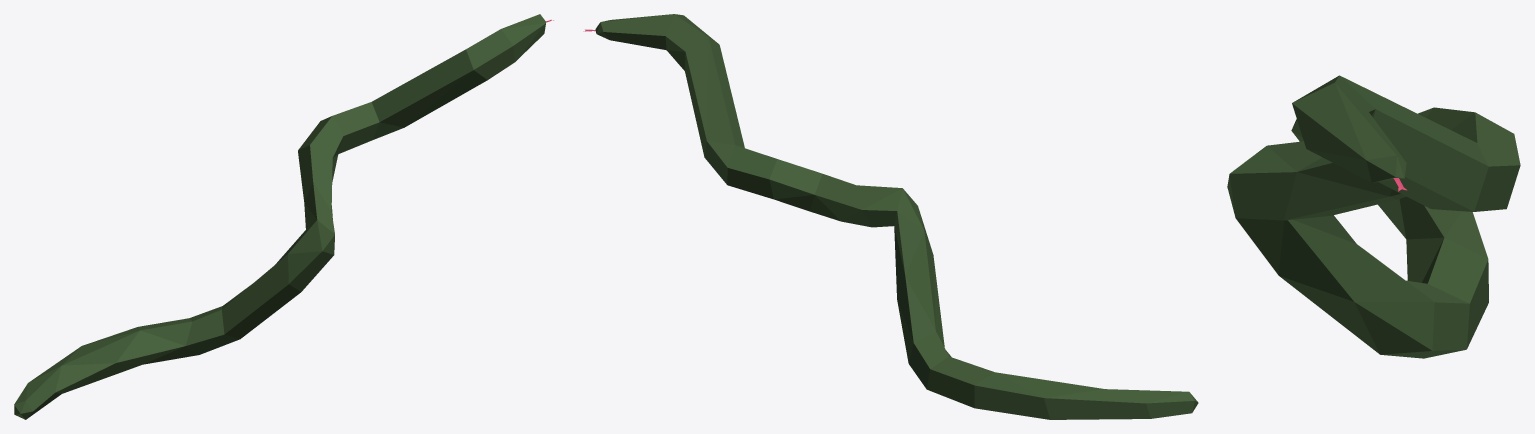
The model's file is SnakeModel.fbx.
3 views of the same model, side by side, from view 1: azimuth 30°, elevation 25°; view 2: azimuth 150°, elevation 25°; view 3: azimuth 270°, elevation 25° (orthographic). The views are drawn at different scales.
Parts seen in each view (by area): view 1: Snake; view 2: Snake; view 3: Snake.
Boxes of the visible parts, left/top/right/bottom form: Snake: left=14, top=14, right=553, bottom=419; Snake: left=583, top=14, right=1198, bottom=419; Snake: left=1227, top=75, right=1520, bottom=358.
Bounding box in the file's own units: 321 × 150 × 72.61.
